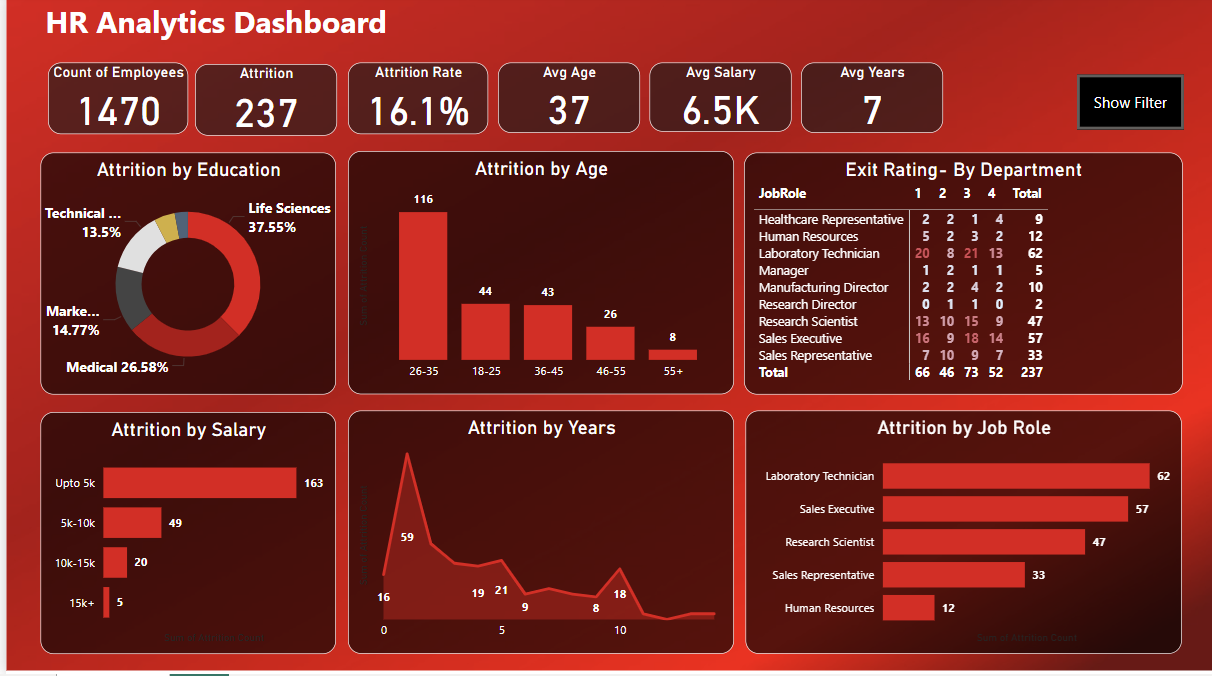

This screenshot's page, from the dashboard's own definition file:
{"tool":"powerbi","page":{"name":"Page 1","canvas":[1280,720],"ordinal":0},"visuals":[{"type":"card","title":"Count of Employees","fields":{"Values":["CountNonNull(HR_Analytics.EmpID)"]},"box":[44.4,71.6,149,75.9],"z":0},{"type":"card","title":"Attrition ","fields":{"Values":["Sum(HR_Analytics.Attrition Count)"]},"box":[200.5,73.1,150.4,75.9],"z":1000},{"type":"actionButton","title":"Show FIlter ","box":[1135.9,84.5,113.3,58.3],"z":1000,"group":"g1"},{"type":"card","title":"Avg Age","fields":{"Values":["Avg(HR_Analytics.Age)"]},"box":[521.4,71.6,150.4,74.5],"z":2000},{"type":"card","title":"Attrition Rate","fields":{"Values":["HR_Analytics.Attrition Rate"]},"box":[362.4,71.6,149,75.9],"z":3000},{"type":"card","title":"Avg Salary","fields":{"Values":["Avg(HR_Analytics.MonthlyIncome)"]},"box":[681.8,71.6,150.4,73.1],"z":4000},{"type":"card","title":"Avg Years","fields":{"Values":["Avg(HR_Analytics.YearsAtCompany)"]},"box":[843.7,71.6,150.4,74.5],"z":5000},{"type":"donutChart","title":" Attrition by Education","fields":{"Y":["Sum(HR_Analytics.Attrition Count)"],"Category":["HR_Analytics.EducationField"]},"box":[36.7,166.7,313.3,256.7],"z":6000},{"type":"columnChart","title":" Attrition by Age ","fields":{"Y":["Sum(HR_Analytics.Attrition Count)"],"Category":["HR_Analytics.AgeGroup"]},"box":[362.4,164.7,409.7,257.8],"z":7000},{"type":"pivotTable","title":"Exit Rating- By Department","fields":{"Rows":["HR_Analytics.JobRole"],"Columns":["HR_Analytics.JobSatisfaction"],"Values":["Sum(HR_Analytics.Attrition Count)"]},"box":[783.3,166.7,465,256.7],"z":8000},{"type":"barChart","title":" Attrition by Salary","fields":{"Category":["HR_Analytics.SalarySlab"],"Y":["Sum(HR_Analytics.Attrition Count)"]},"box":[36.7,441.7,313.3,256.7],"z":9000},{"type":"barChart","title":" Attrition by Job Role","fields":{"Y":["Sum(HR_Analytics.Attrition Count)"],"Category":["HR_Analytics.JobRole"]},"box":[783.5,441.2,462.7,257.8],"z":10000},{"type":"stackedAreaChart","title":" Attrition by Years ","fields":{"Category":["HR_Analytics.YearsAtCompany"],"Y":["Sum(HR_Analytics.Attrition Count)"]},"box":[362.4,441.2,409.7,257.8],"z":11000},{"type":"group","id":"g1","title":"Filter Button","box":[1135.9,84.5,113.2,60.2],"z":13000},{"type":"textbox","box":[36.6,0,454.9,71.6],"z":14000}]}

Visuals, with their boxes in screenshot pixels (x1, y1, x2, y2), scaled from the page's 1280x720 canvas onto the 1212x676 screenshot:
"Count of Employees" card: [42, 67, 183, 138]
"Attrition " card: [190, 69, 332, 140]
"Show FIlter " actionButton: [1076, 79, 1183, 134]
"Avg Age" card: [494, 67, 636, 137]
"Attrition Rate" card: [343, 67, 484, 138]
"Avg Salary" card: [646, 67, 788, 136]
"Avg Years" card: [799, 67, 941, 137]
" Attrition by Education" donutChart: [35, 157, 331, 398]
" Attrition by Age " columnChart: [343, 155, 731, 397]
"Exit Rating- By Department" pivotTable: [742, 157, 1182, 398]
" Attrition by Salary" barChart: [35, 415, 331, 656]
" Attrition by Job Role" barChart: [742, 414, 1180, 656]
" Attrition by Years " stackedAreaChart: [343, 414, 731, 656]
"Filter Button" group: [1076, 79, 1183, 136]
textbox: [35, 0, 465, 67]
